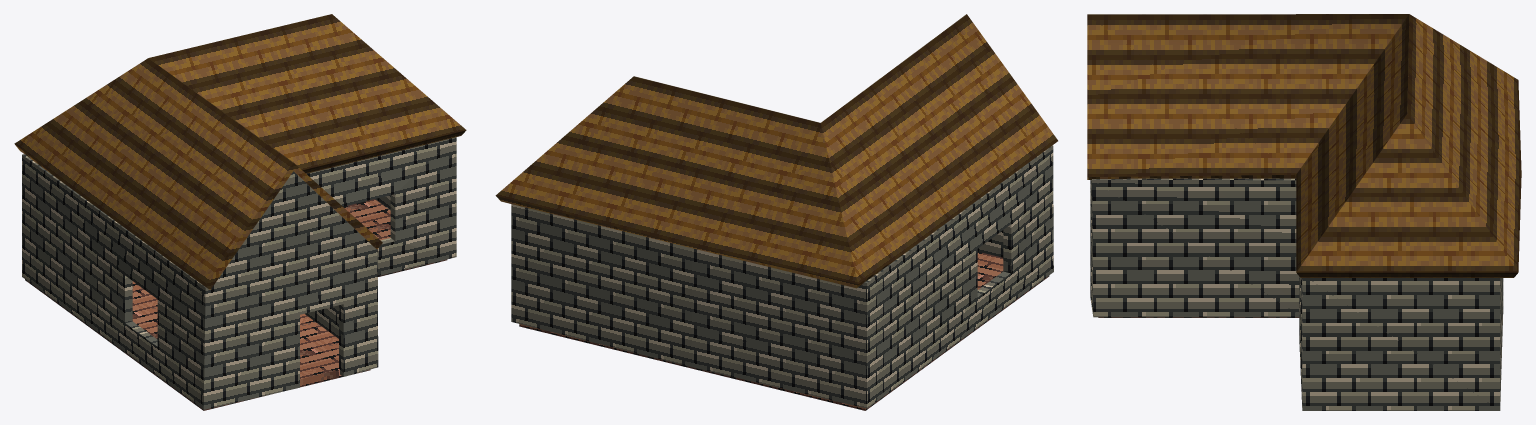
File: house2.obj
3 renders of one model, left to right at view 1: azimuth 30°, elevation 25°; view 2: azimuth 150°, elevation 25°; view 3: azimuth 270°, elevation 25°, orthographic. The views are drawn at different scales.
Parts seen in each view (by area): view 1: Object001, muren, Object002; view 2: Object001, muren, Object002; view 3: Object001, muren.
Boxes of the visible parts, x1,y1,x2,y2 form: Object001: (14,14,466,289); muren: (22,137,456,409); Object002: (25,199,447,410); Object001: (495,14,1057,288); muren: (511,145,1053,408); Object002: (519,251,1049,410); Object001: (1087,14,1521,277); muren: (1090,178,1503,410).
Size of the model in its own units: 15.04 by 9.33 by 14.2.
